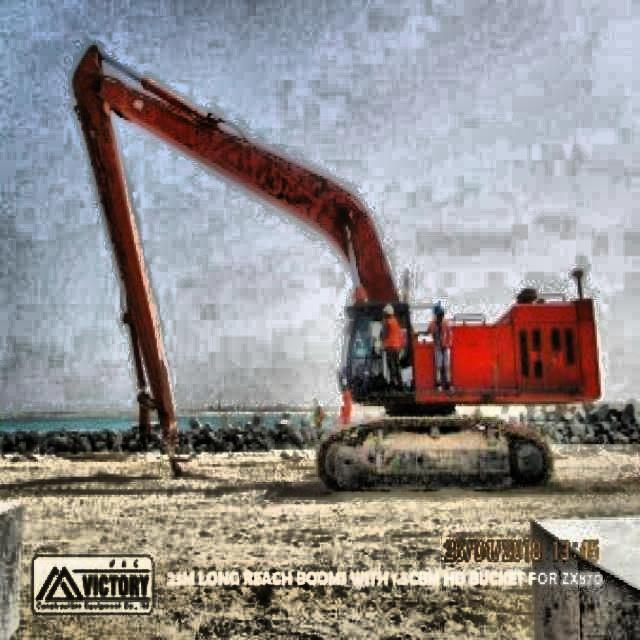bull_dozer/loader/grader: (70, 39, 602, 494)
person: (426, 304, 460, 396), (378, 302, 406, 394)
